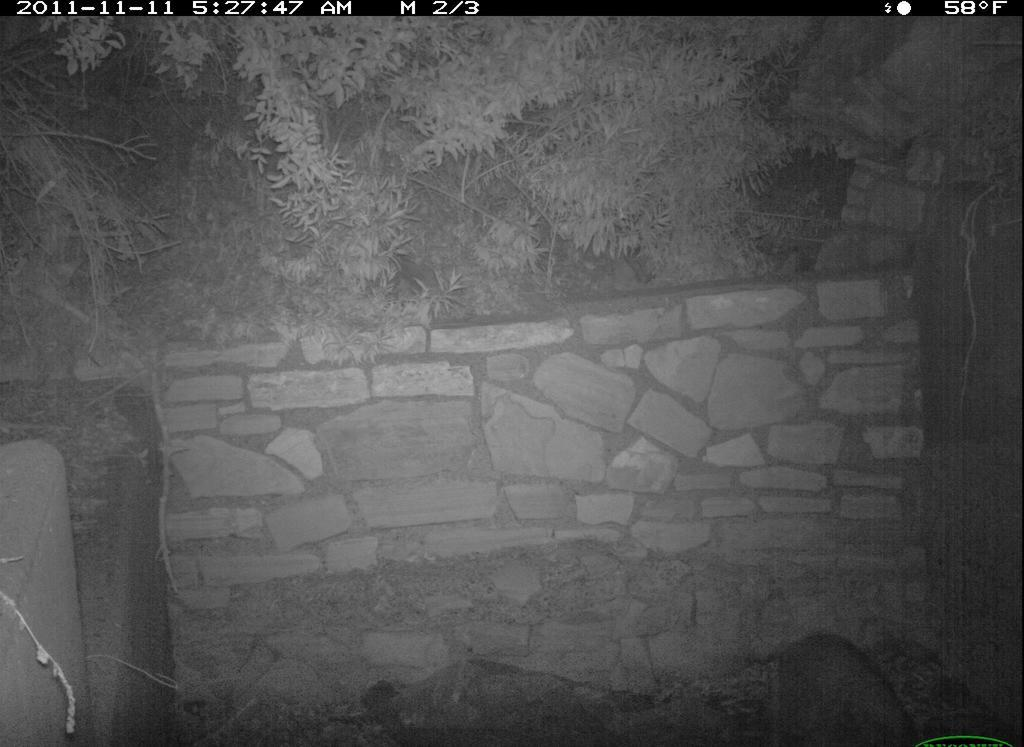raccoon: (748, 606, 923, 744)
